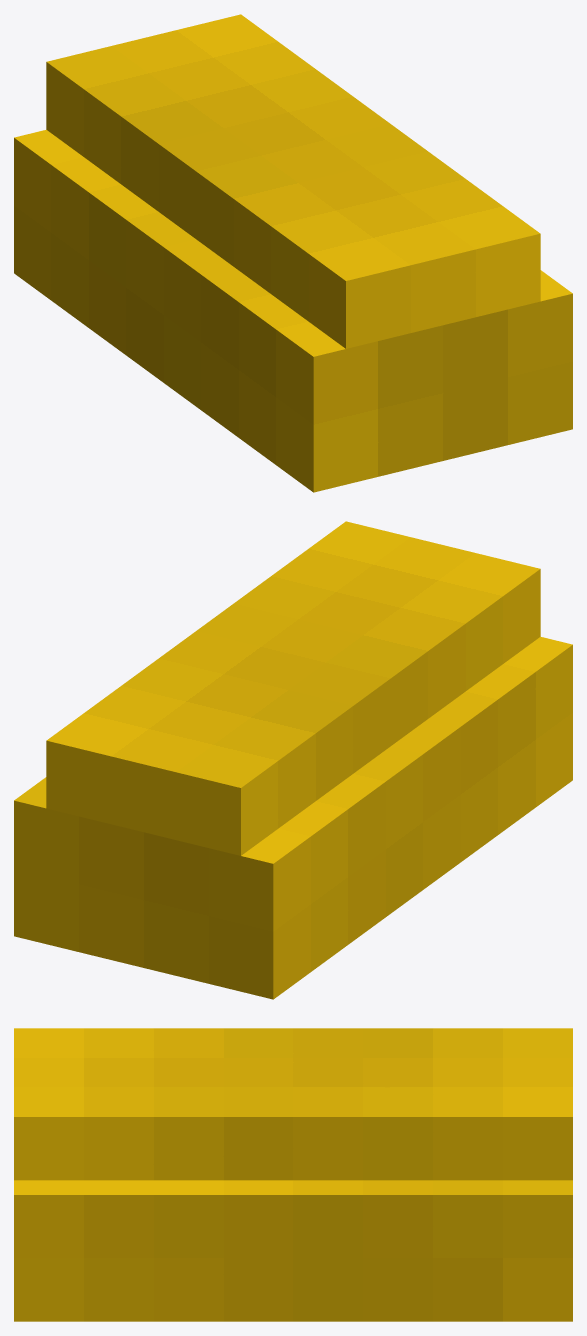
Rendered from gold.fbx.
3 views of the same model, one above another, from view 1: azimuth 30°, elevation 25°; view 2: azimuth 150°, elevation 25°; view 3: azimuth 270°, elevation 25° (orthographic). The views are drawn at different scales.
Visible parts, largest first — view 1: cube_1, cube; view 2: cube_1, cube; view 3: cube_1, cube.
Boxes of the visible parts, x1,y1,x2,y2 form: cube_1: (46, 14, 540, 348); cube: (14, 129, 572, 492); cube_1: (46, 521, 540, 855); cube: (14, 636, 572, 999); cube_1: (14, 1028, 572, 1180); cube: (14, 1180, 572, 1321).
Bounding box in the file's own units: 25 × 18.75 × 50.
